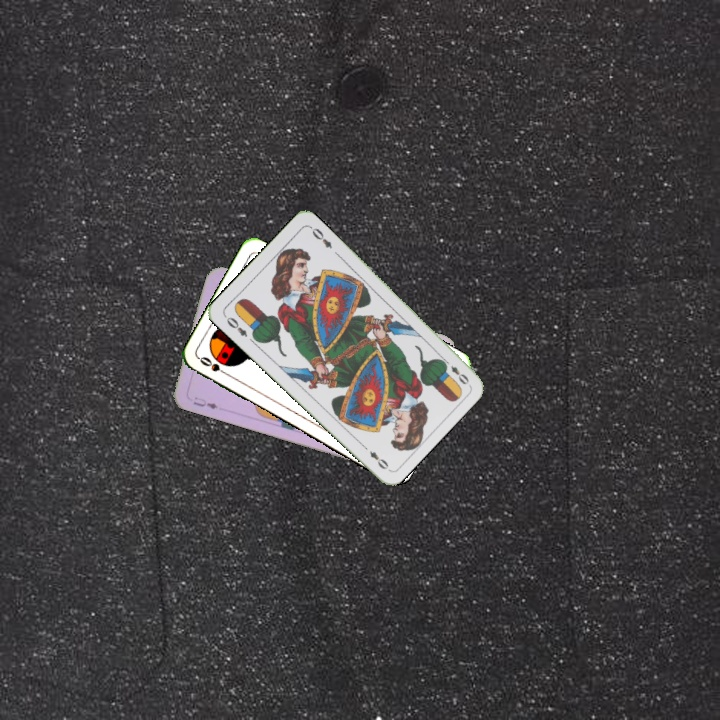EO: (439, 355, 472, 387), (220, 312, 250, 340)
EU: (189, 393, 220, 412)
SO: (195, 352, 233, 379)
